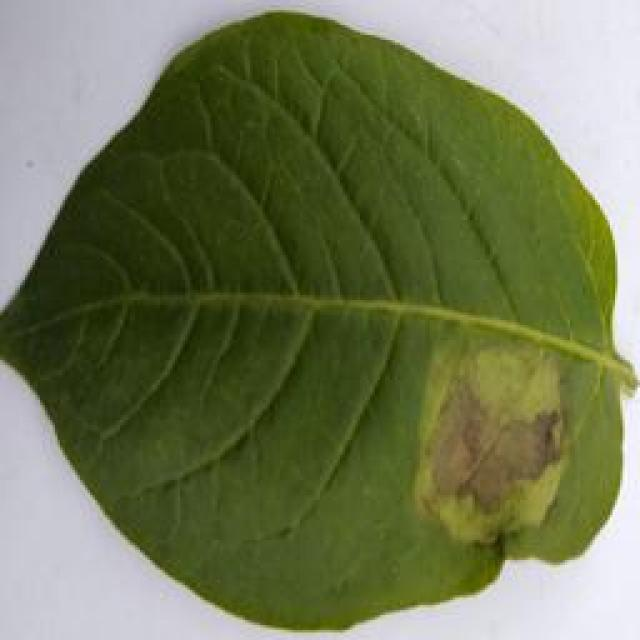Potato_Late_Blight: (1, 11, 621, 630)
